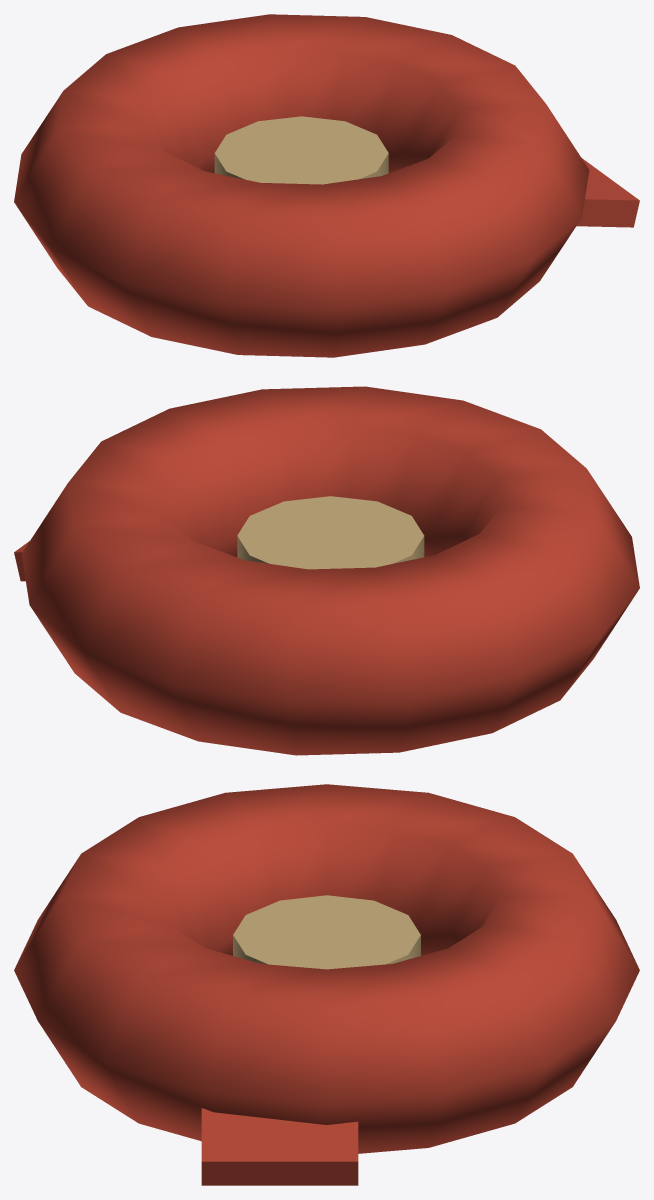
File: tape_roll.glb
The picture shows the model from 3 angles, top to bottom: view 1: azimuth 30°, elevation 25°; view 2: azimuth 150°, elevation 25°; view 3: azimuth 270°, elevation 25°; orthographic projection. The views are drawn at different scales.
Parts seen in each view (by area): view 1: tape_roll; view 2: tape_roll; view 3: tape_roll.
Part boxes in pixels (x1,y1,x2,y2): tape_roll: (14, 14, 639, 357); tape_roll: (14, 386, 639, 755); tape_roll: (14, 784, 639, 1185).
Size of the model in its own units: 0.0846 by 0.0208 by 0.08.
